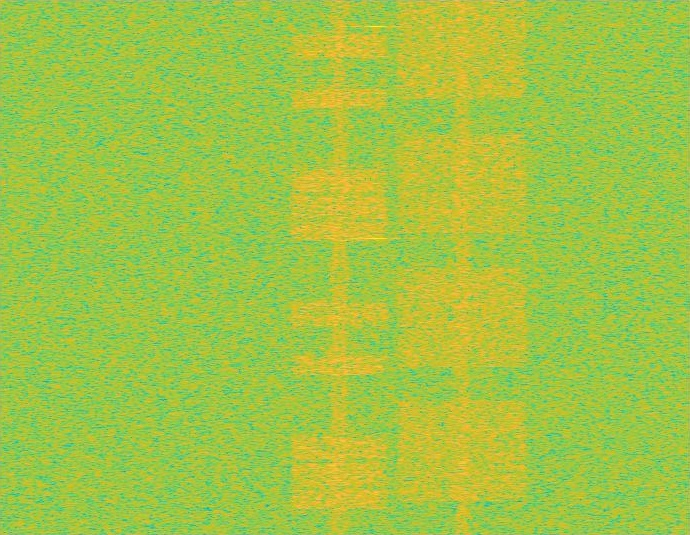5G: (393, 0, 531, 534)
DSSS: (328, 0, 351, 534), (453, 0, 471, 534)
LTE: (288, 0, 391, 534)
Radar: (369, 0, 383, 534)
